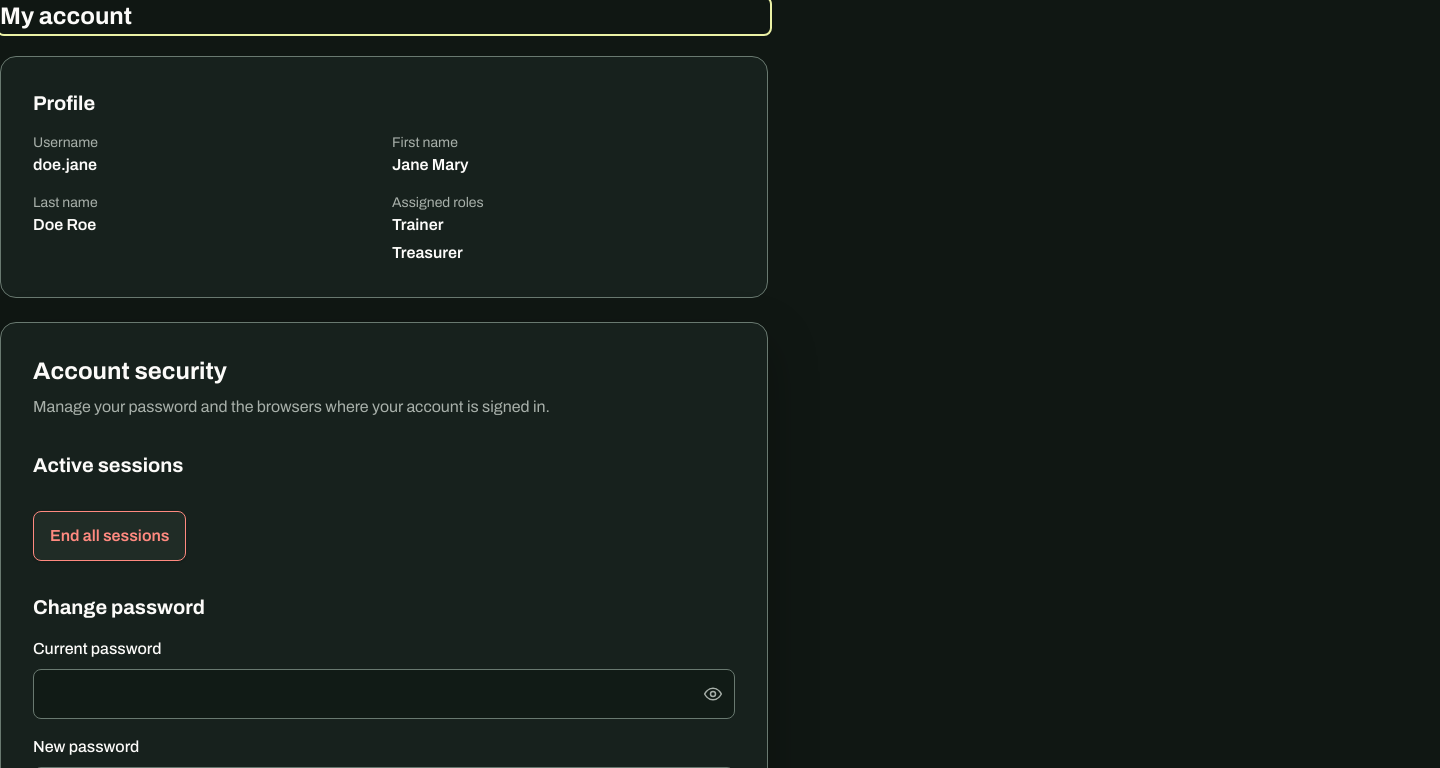
Scenario: given password proof is still pending, when the holder cancels the dialog, then its late answer cannot run the cancelled action
Step 1. Click the button with test id "end-all-sessions" → (110, 536), box left=33, top=511, right=186, bottom=561
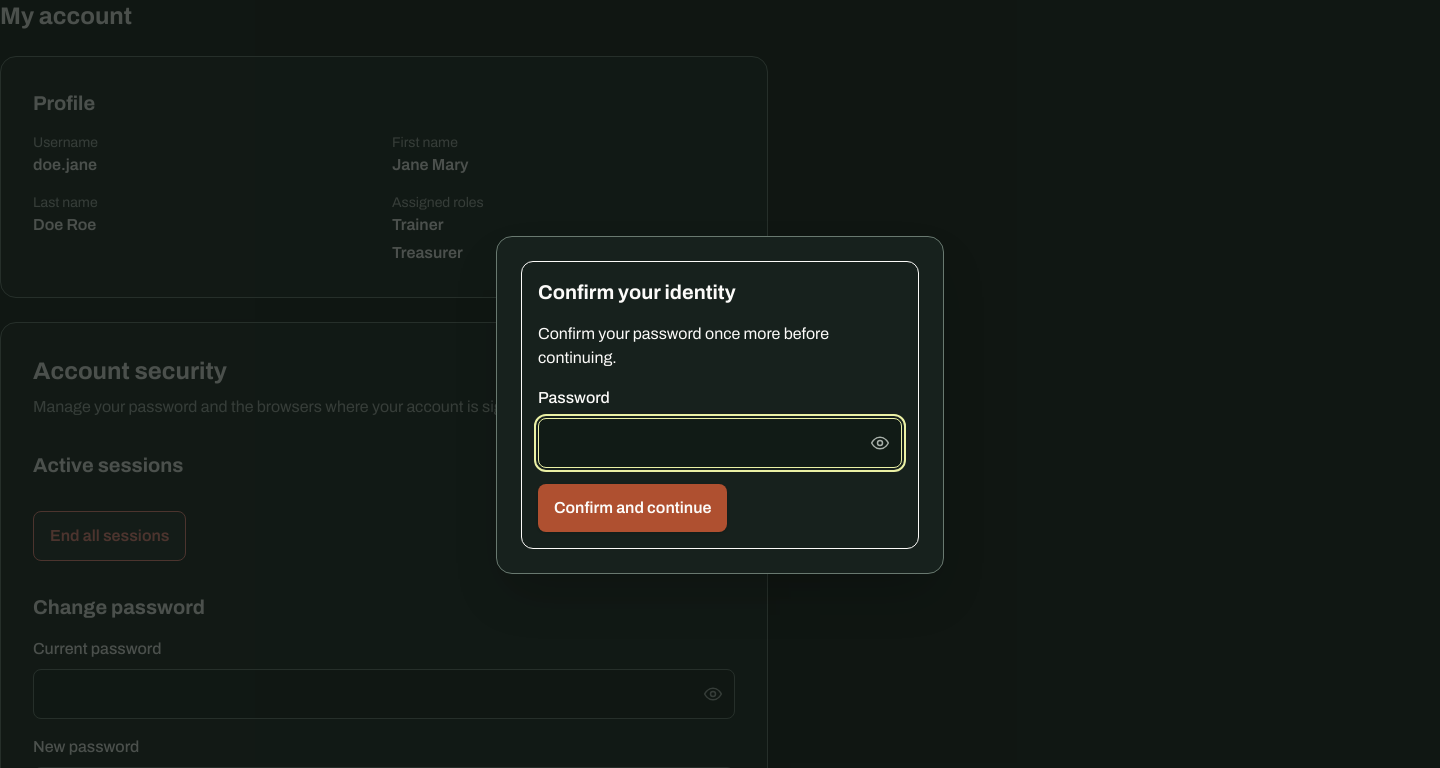
Step 2. Type "old-account-password" into the password field with id "reauthentication-password" → (720, 443), box left=538, top=418, right=902, bottom=468
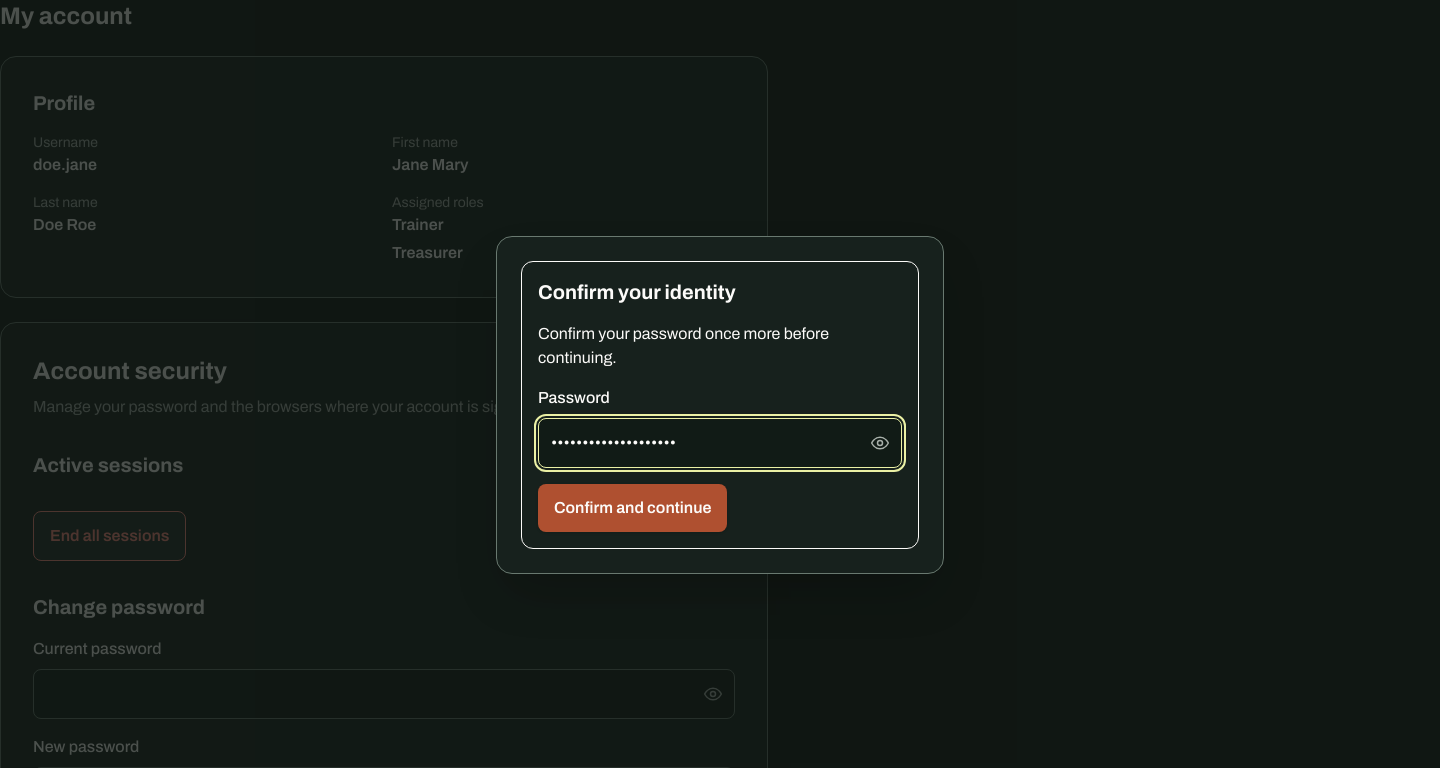
Step 3. Click the button with test id "reauthentication-submit" → (633, 508), box left=538, top=484, right=728, bottom=532
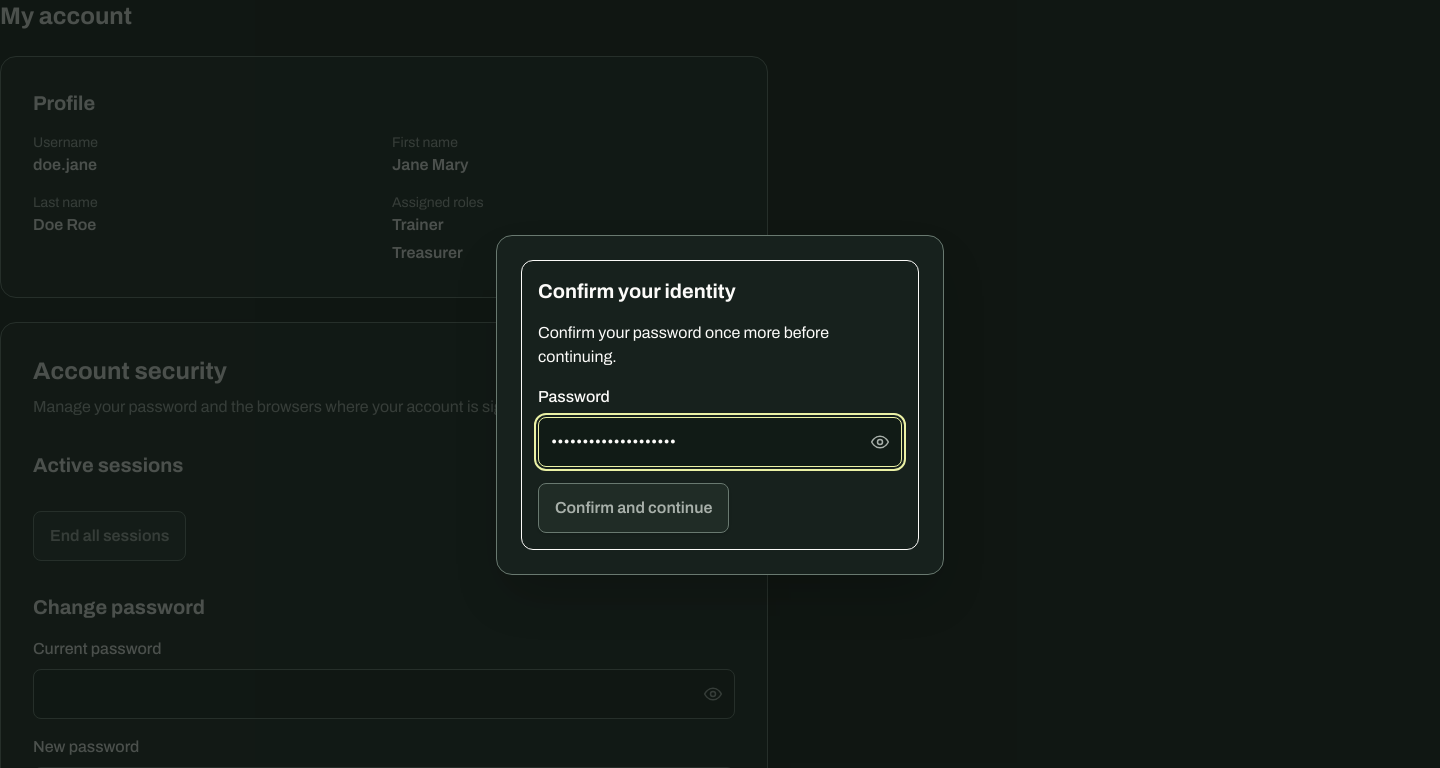
Step 4. Press Escape
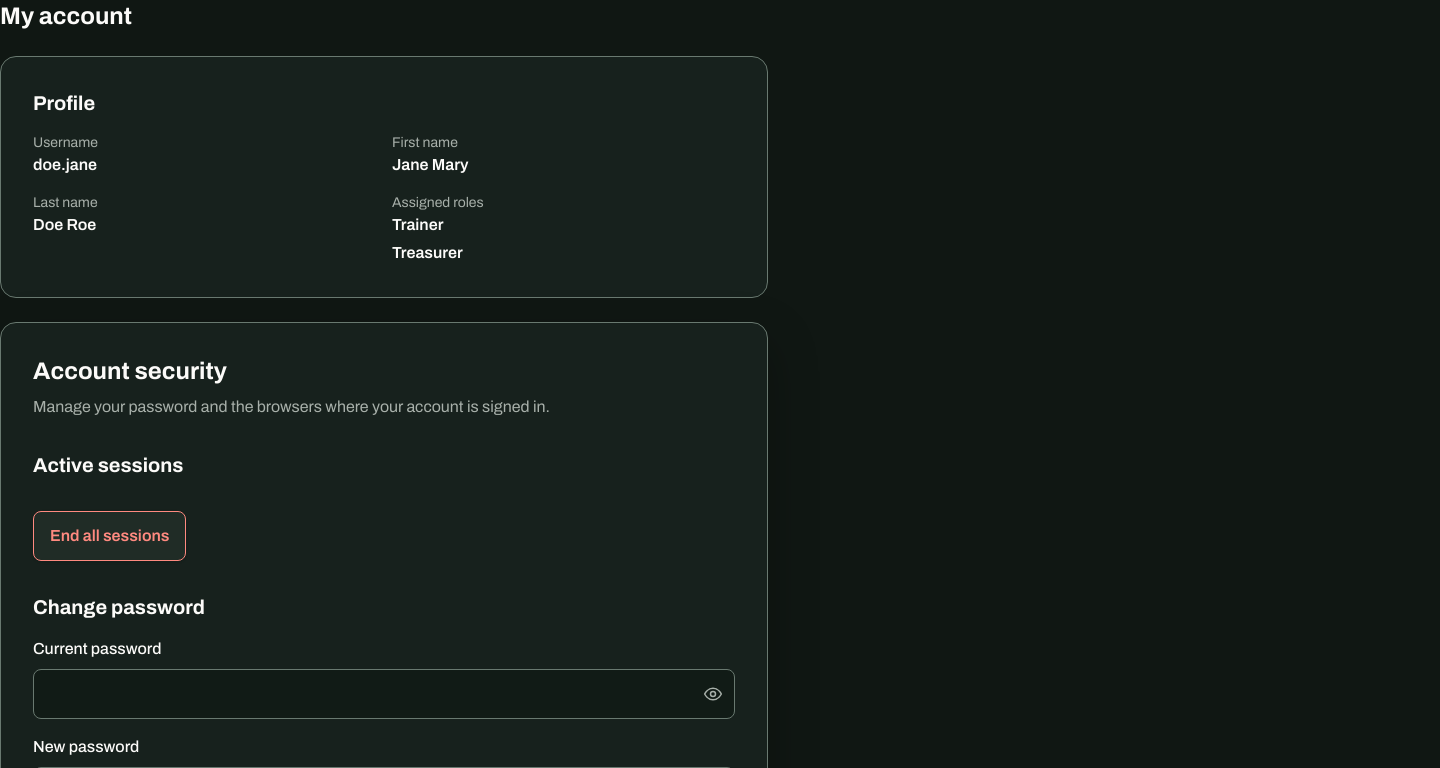
Now the dialog is gone
Now the button with test id "end-all-sessions" is enabled, box left=33, top=511, right=186, bottom=561
